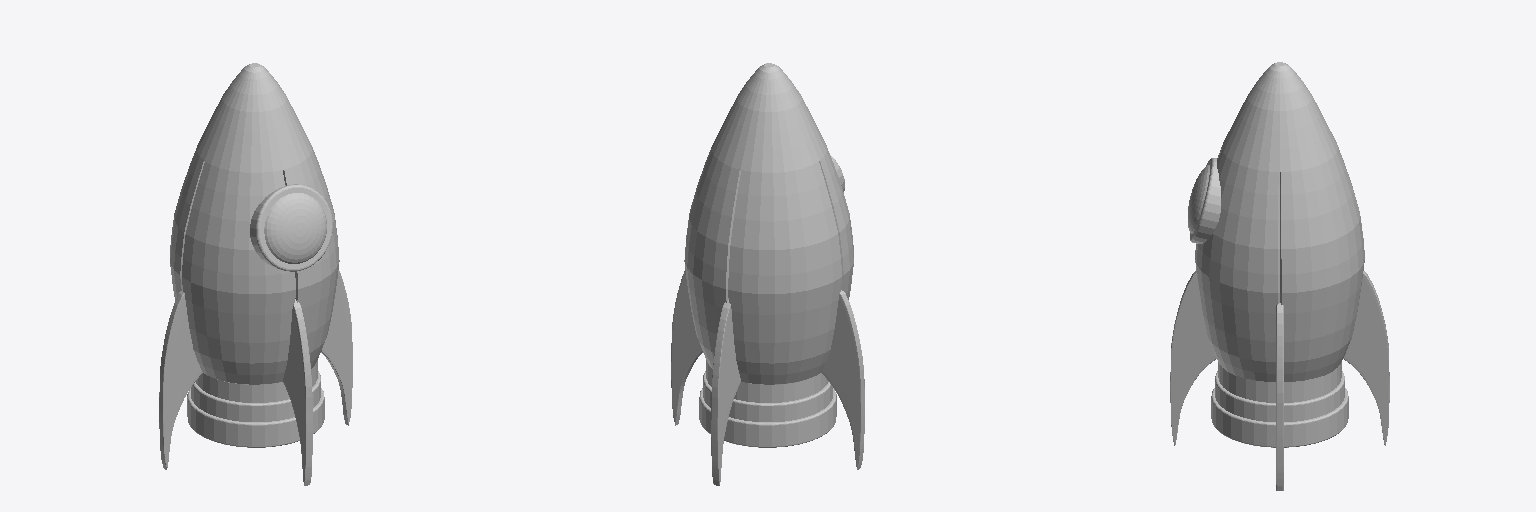
File: Toy_Rocket.obj
3 views of the same model, side by side, from view 1: azimuth 30°, elevation 25°; view 2: azimuth 150°, elevation 25°; view 3: azimuth 270°, elevation 25° (orthographic).
Parts seen in each view (by area): view 1: Body, Wings, Tip, Engine, Window.001, Window; view 2: Body, Wings, Tip, Engine; view 3: Body, Wings, Tip, Engine, Window, Window.001.
Part boxes in pixels (bbox=[...]): Body: bbox=[170, 147, 339, 384]; Wings: bbox=[159, 270, 352, 485]; Tip: bbox=[197, 63, 311, 172]; Engine: bbox=[187, 360, 324, 447]; Window.001: bbox=[264, 193, 326, 263]; Window: bbox=[250, 184, 332, 271]; Body: bbox=[684, 147, 853, 384]; Wings: bbox=[671, 270, 864, 485]; Tip: bbox=[712, 63, 826, 172]; Engine: bbox=[699, 360, 836, 447]; Body: bbox=[1195, 145, 1364, 381]; Wings: bbox=[1170, 271, 1389, 490]; Tip: bbox=[1222, 62, 1337, 171]; Engine: bbox=[1211, 362, 1348, 447]; Window: bbox=[1190, 158, 1220, 243]; Window.001: bbox=[1188, 165, 1209, 233].
Size of the model in its own units: 1.63 by 3.12 by 1.63.